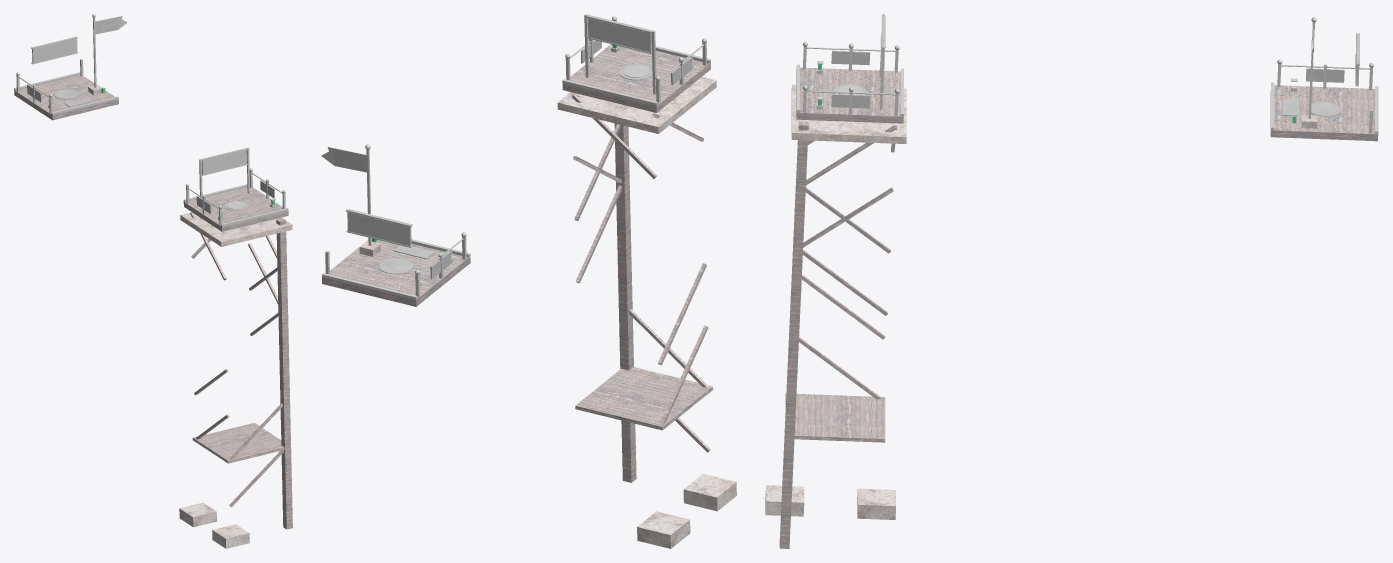
Rendered from HighwireHorizon_05.obj.
3 renders of one model, left to right at view 1: azimuth 30°, elevation 25°; view 2: azimuth 150°, elevation 25°; view 3: azimuth 270°, elevation 25°, orthographic. The views are drawn at different scales.
Parts seen in each view (by area): view 1: Box0114, Box0017, Box0144, Box0014, Box0194, Box0018, Box0045, Box0211, Box0212; view 2: Box0144, Box0017, Box0014, Box0114, Box0194, Box0045, Box0018, Box0211, Box0212, Segment0132, Segment0075, Segment0212 (+4 smaller); view 3: Box0114, Box0014, Box0017, Box0144, Box0194, Box0018, Box0045.
Boxes of the visible parts, box(x1,y1,x2,y2) form: Box0114: box(276, 218, 292, 529); Box0017: box(183, 187, 288, 231); Box0144: box(192, 422, 284, 463); Box0014: box(14, 75, 118, 120); Box0194: box(180, 213, 292, 246); Box0018: box(179, 502, 216, 527); Box0045: box(212, 524, 249, 548); Box0211: box(32, 38, 77, 63); Box0212: box(201, 150, 246, 174); Box0144: box(575, 367, 713, 430); Box0017: box(562, 44, 710, 112); Box0014: box(322, 238, 470, 306); Box0114: box(614, 123, 636, 482); Box0194: box(557, 76, 716, 133); Box0045: box(683, 474, 736, 511); Box0018: box(637, 511, 690, 548); Box0211: box(347, 212, 411, 246); Box0212: box(588, 18, 651, 52); Segment0132: box(658, 263, 706, 365); Segment0075: box(659, 325, 708, 424); Segment0212: box(576, 185, 621, 283); Box0114: box(779, 121, 808, 548); Box0014: box(1270, 85, 1378, 141); Box0017: box(796, 67, 903, 123); Box0144: box(785, 393, 885, 442); Box0194: box(791, 84, 906, 143); Box0018: box(857, 488, 895, 519); Box0045: box(765, 485, 804, 516).
Bounding box in the file's own units: 20.5 × 76.37 × 80.06.
9 materials, 8 textured.
